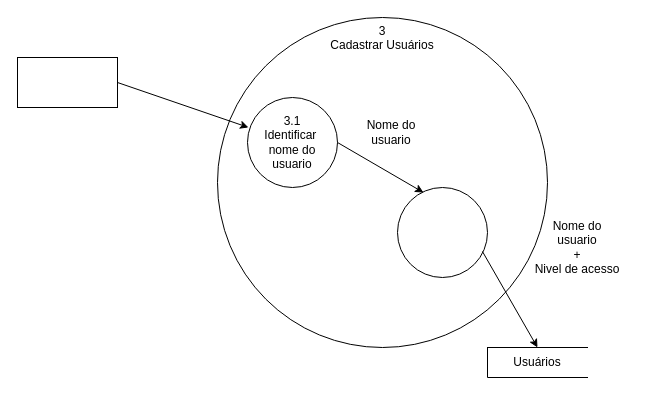
The diagram is 665 pixels wide and 395 high, and some of its shapes have lost their labels. Here are the shapes that lost their labels. From the top down, the centre of each, then its label:
the point at 67,82: Admnistrador
the point at 442,232: 3.2 Identificar nivel de acesso
